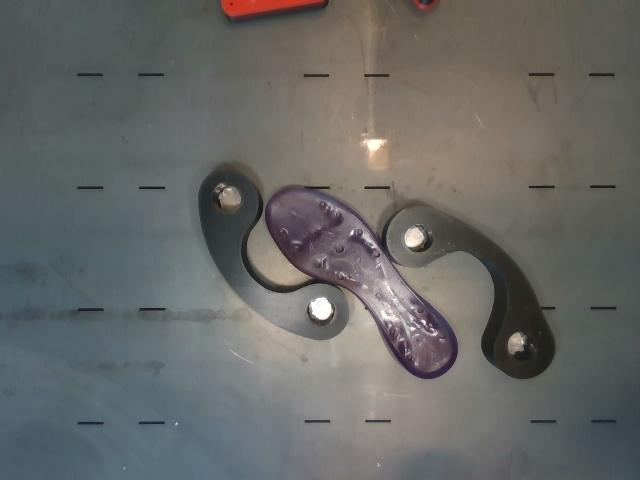shoes: (265, 186, 457, 379)
